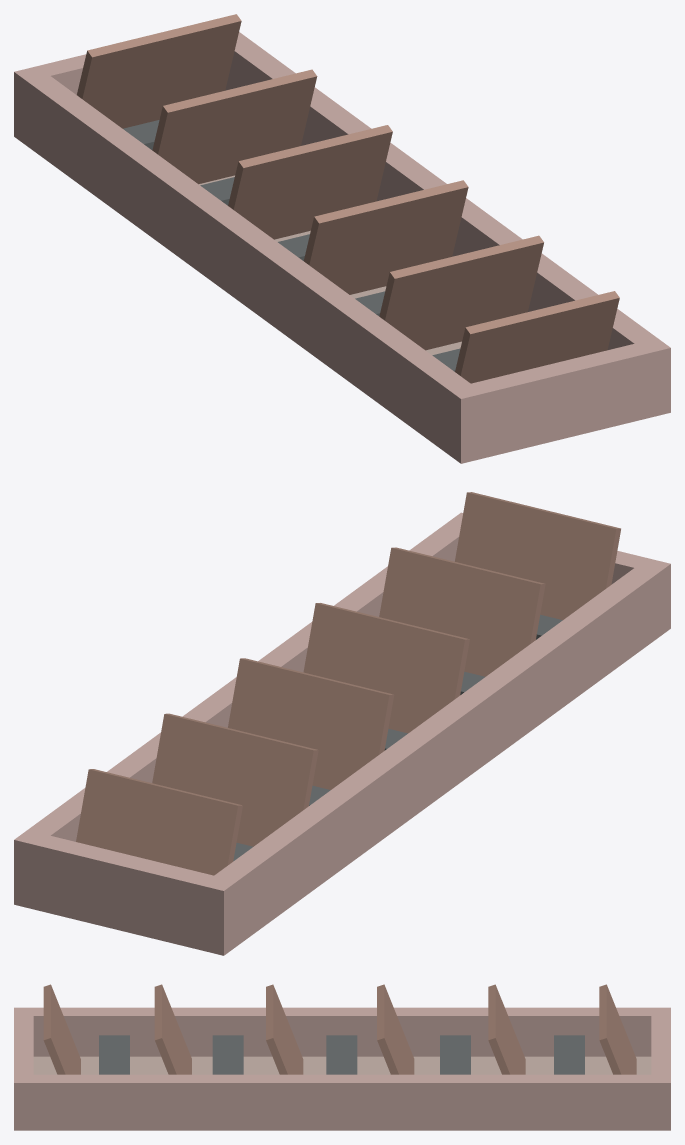
Rendered from SM_cig_box_var.fbx.
3 renders of one model, top to bottom at view 1: azimuth 30°, elevation 25°; view 2: azimuth 150°, elevation 25°; view 3: azimuth 270°, elevation 25°, orthographic. The views are drawn at different scales.
Parts seen in each view (by area): view 1: cig_box_var; view 2: cig_box_var; view 3: cig_box_var.
Part boxes in pixels (x1,y1,x2,y2): cig_box_var: (14, 14, 670, 463); cig_box_var: (14, 492, 670, 955); cig_box_var: (14, 984, 670, 1130).
Bounding box in the file's own units: 33.58 × 17.21 × 124.
